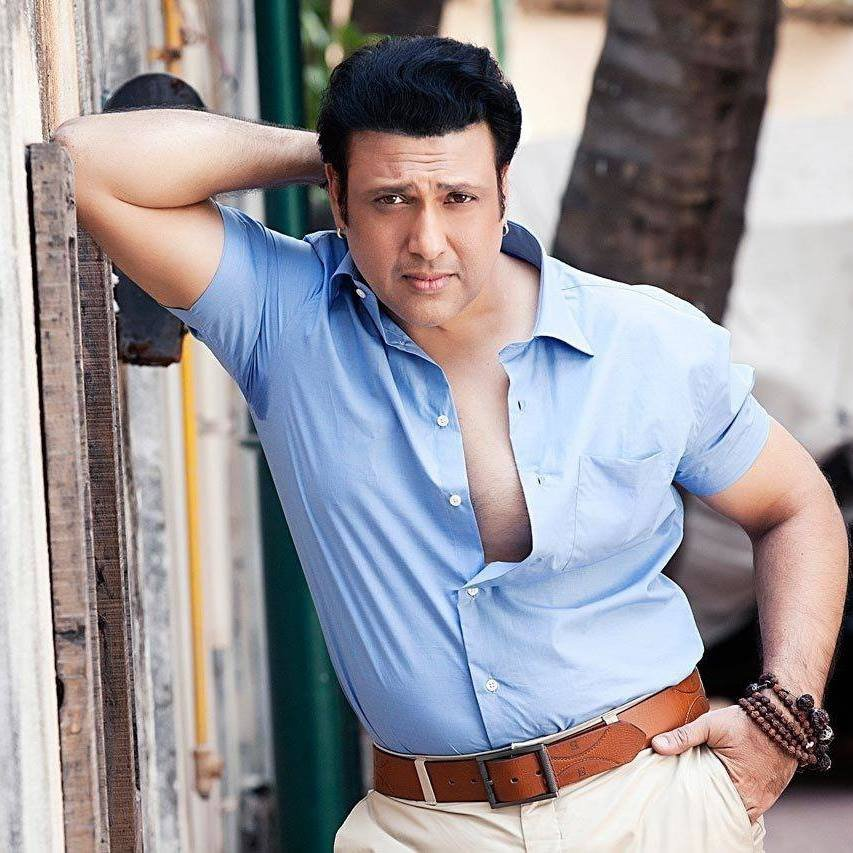bad: (324, 139, 510, 325)
